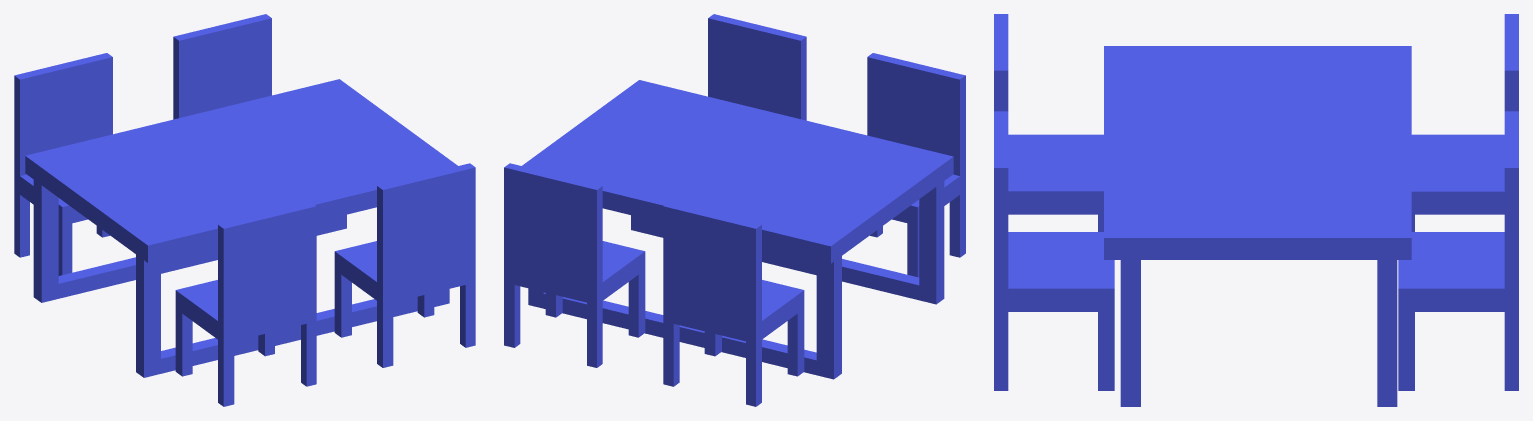
File: table and chair.fbx
3 renders of one model, left to right at view 1: azimuth 30°, elevation 25°; view 2: azimuth 150°, elevation 25°; view 3: azimuth 270°, elevation 25°, orthographic. The views are drawn at different scales.
Visible parts, largest first — view 1: Cube, Cube.005, Cube.006, Cube.003, Cube.004, Cube.002, Cube.001; view 2: Cube, Cube.003, Cube.004, Cube.006, Cube.005, Cube.001, Cube.002; view 3: Cube, Cube.005, Cube.004, Cube.006, Cube.003, Cube.001, Cube.002.
Boxes of the visible parts, box(x1,y1,x2,y2) form: Cube: box(25, 79, 457, 262); Cube.005: box(334, 163, 475, 367); Cube.006: box(175, 202, 316, 406); Cube.003: box(14, 53, 112, 275); Cube.004: box(173, 14, 271, 119); Cube.002: box(136, 254, 449, 377); Cube.001: box(33, 180, 346, 302); Cube: box(522, 80, 953, 263); Cube.003: box(663, 202, 804, 406); Cube.004: box(504, 163, 645, 367); Cube.006: box(867, 53, 965, 277); Cube.005: box(708, 14, 806, 120); Cube.001: box(528, 256, 841, 379); Cube.002: box(631, 181, 944, 304); Cube: box(1104, 46, 1411, 259); Cube.005: box(994, 111, 1114, 390); Cube.004: box(1398, 111, 1518, 390); Cube.006: box(994, 14, 1103, 231); Cube.003: box(1411, 14, 1518, 231); Cube.001: box(1377, 260, 1397, 406); Cube.002: box(1120, 260, 1140, 406).
Bounding box in the file's own units: 296 × 161 × 341.
